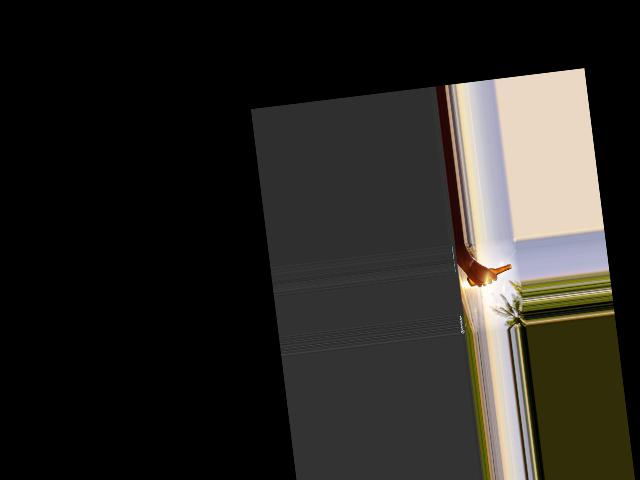beer: (465, 263, 512, 286)
